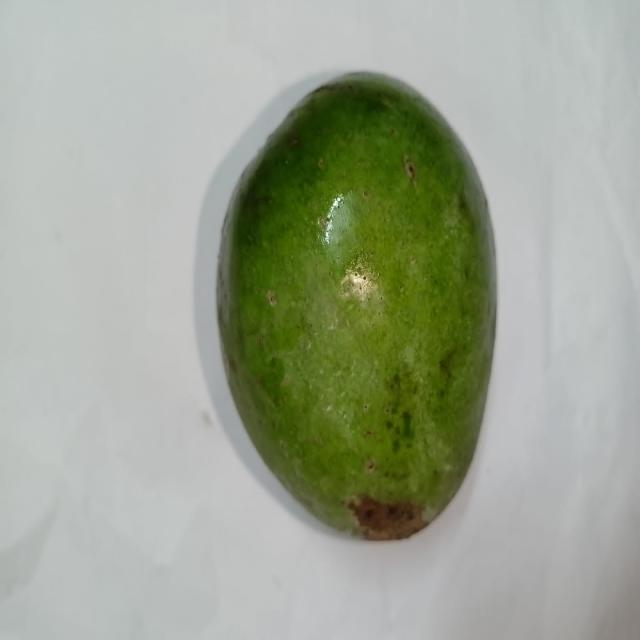fresh_mango: (210, 63, 503, 550)
